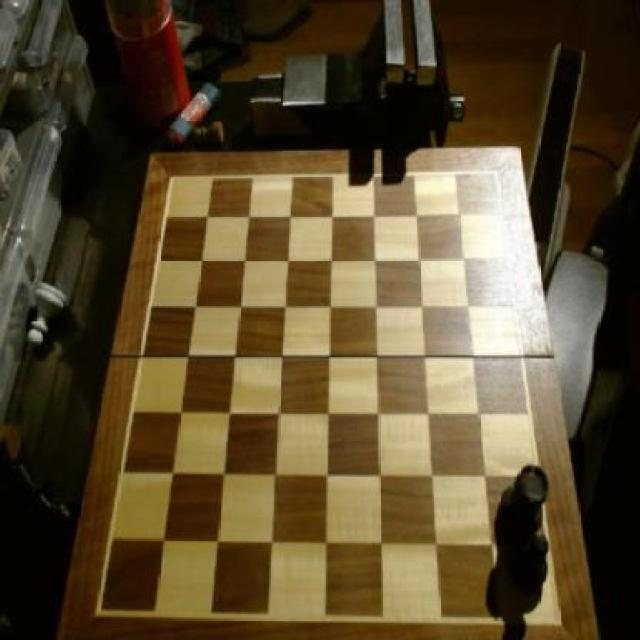black-knight: (506, 532, 553, 605)
black-queen: (502, 462, 553, 546)
